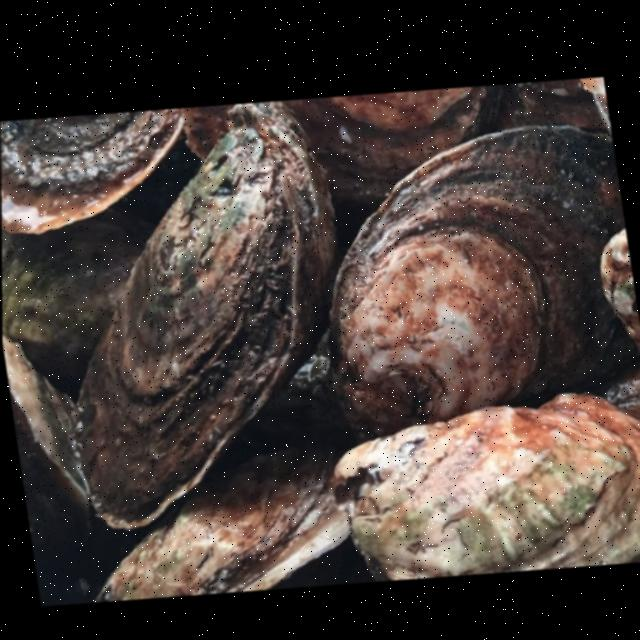Oyster-Closed: (73, 100, 335, 530), (95, 443, 350, 602)
Oyster-Indeterminate: (330, 124, 639, 445), (336, 391, 640, 581), (2, 204, 156, 386), (275, 84, 502, 207), (1, 107, 187, 233), (2, 335, 90, 594), (209, 327, 357, 479), (491, 78, 605, 132), (599, 229, 640, 353)
